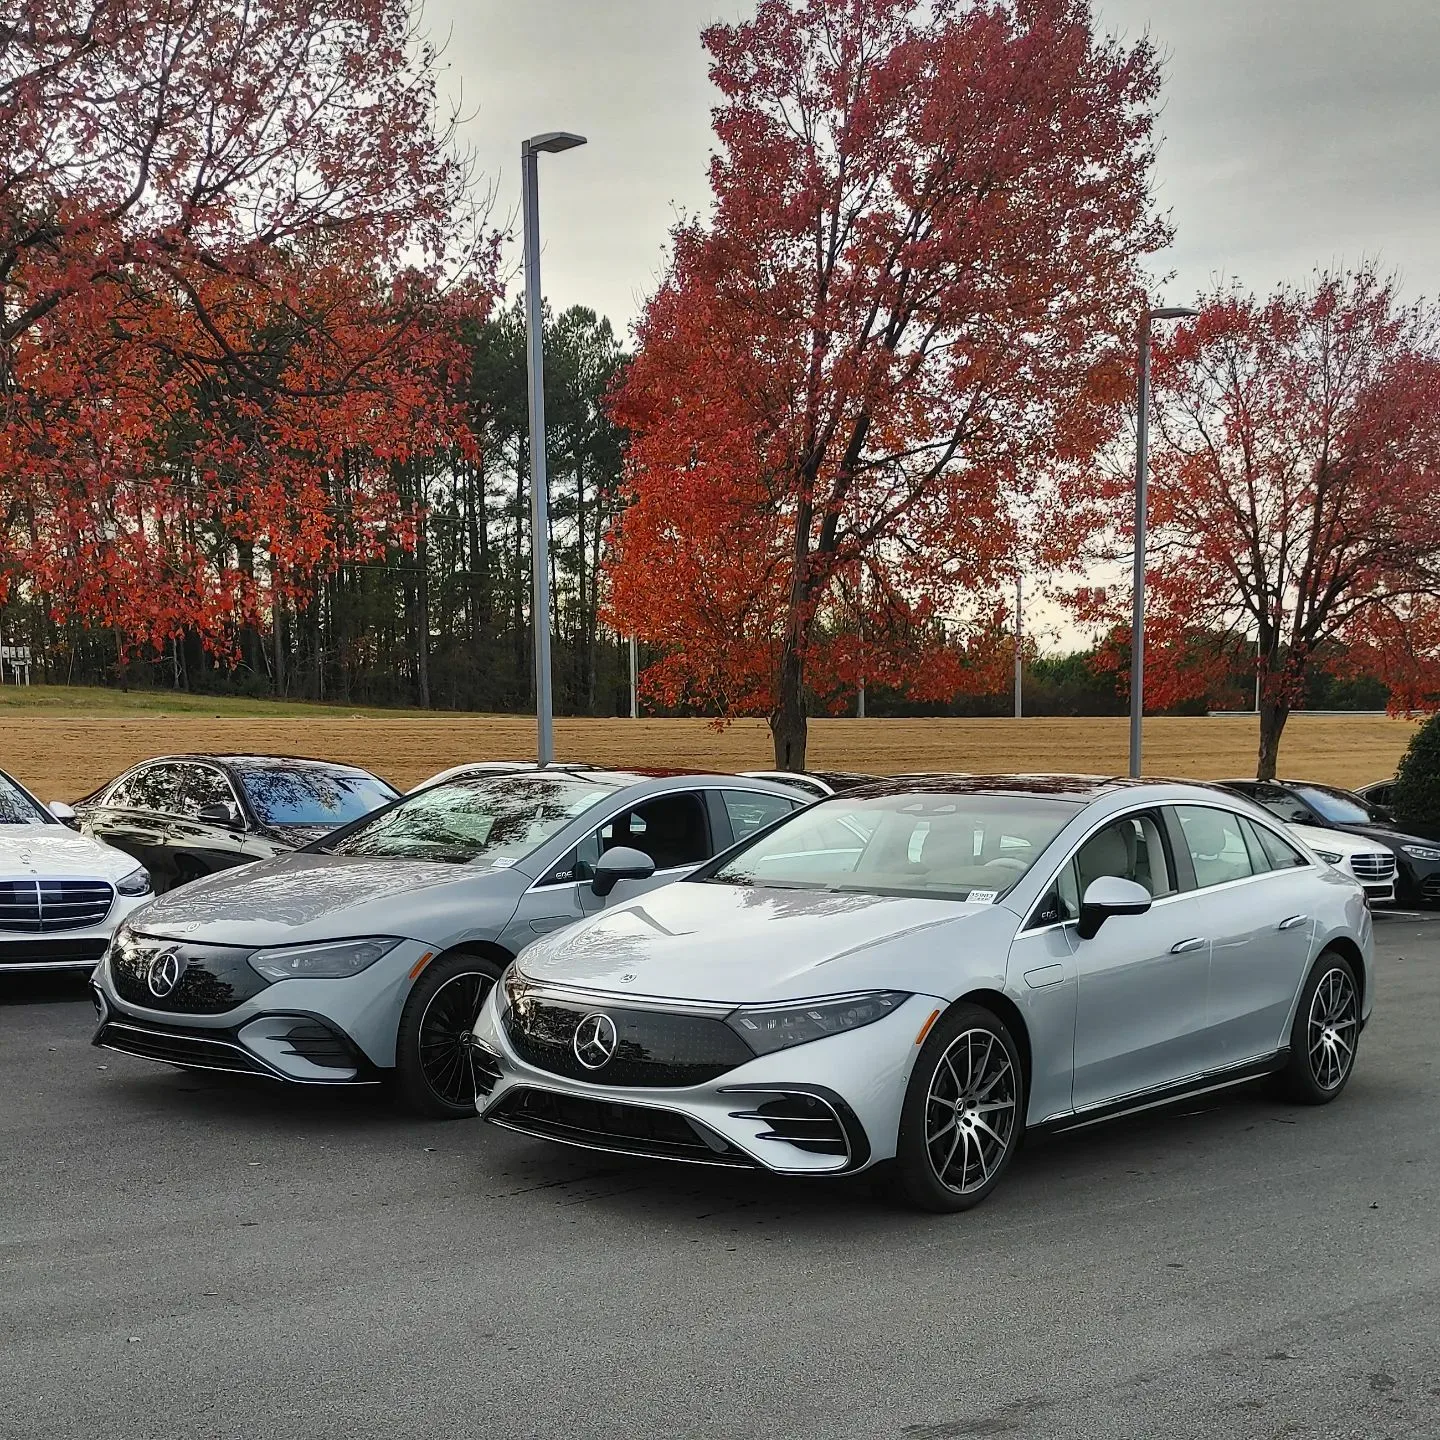Car: (473, 775, 1375, 1213), (92, 767, 820, 1118), (76, 754, 405, 891), (1200, 778, 1440, 911), (0, 767, 152, 977), (1203, 782, 1399, 901), (405, 760, 611, 795), (733, 769, 890, 799), (1350, 775, 1399, 814), (884, 771, 971, 779)
